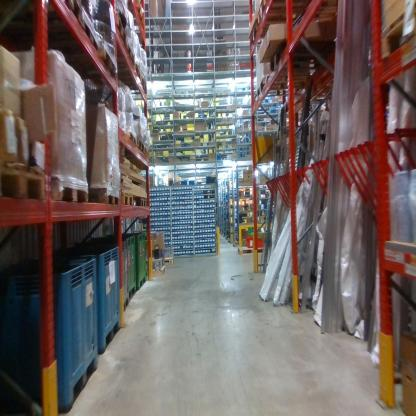pallet: (244, 15, 350, 49), (36, 49, 124, 84), (1, 157, 52, 214), (254, 2, 351, 28), (38, 17, 104, 49), (381, 5, 415, 66), (49, 167, 94, 211), (250, 73, 310, 103), (88, 179, 123, 208), (96, 48, 140, 71), (106, 16, 130, 50), (110, 75, 150, 95), (111, 2, 149, 23), (233, 244, 273, 260), (49, 3, 90, 16), (123, 127, 143, 152), (150, 264, 167, 281), (137, 136, 150, 158), (119, 191, 133, 209), (138, 192, 151, 209), (163, 253, 175, 270)
